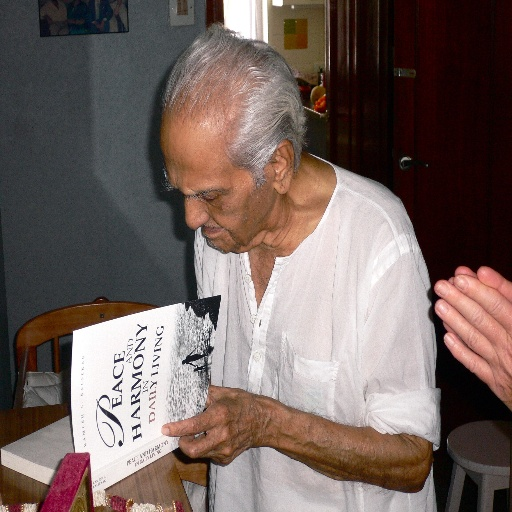hand: (435, 256, 505, 405), (160, 383, 265, 467), (442, 261, 478, 334)
